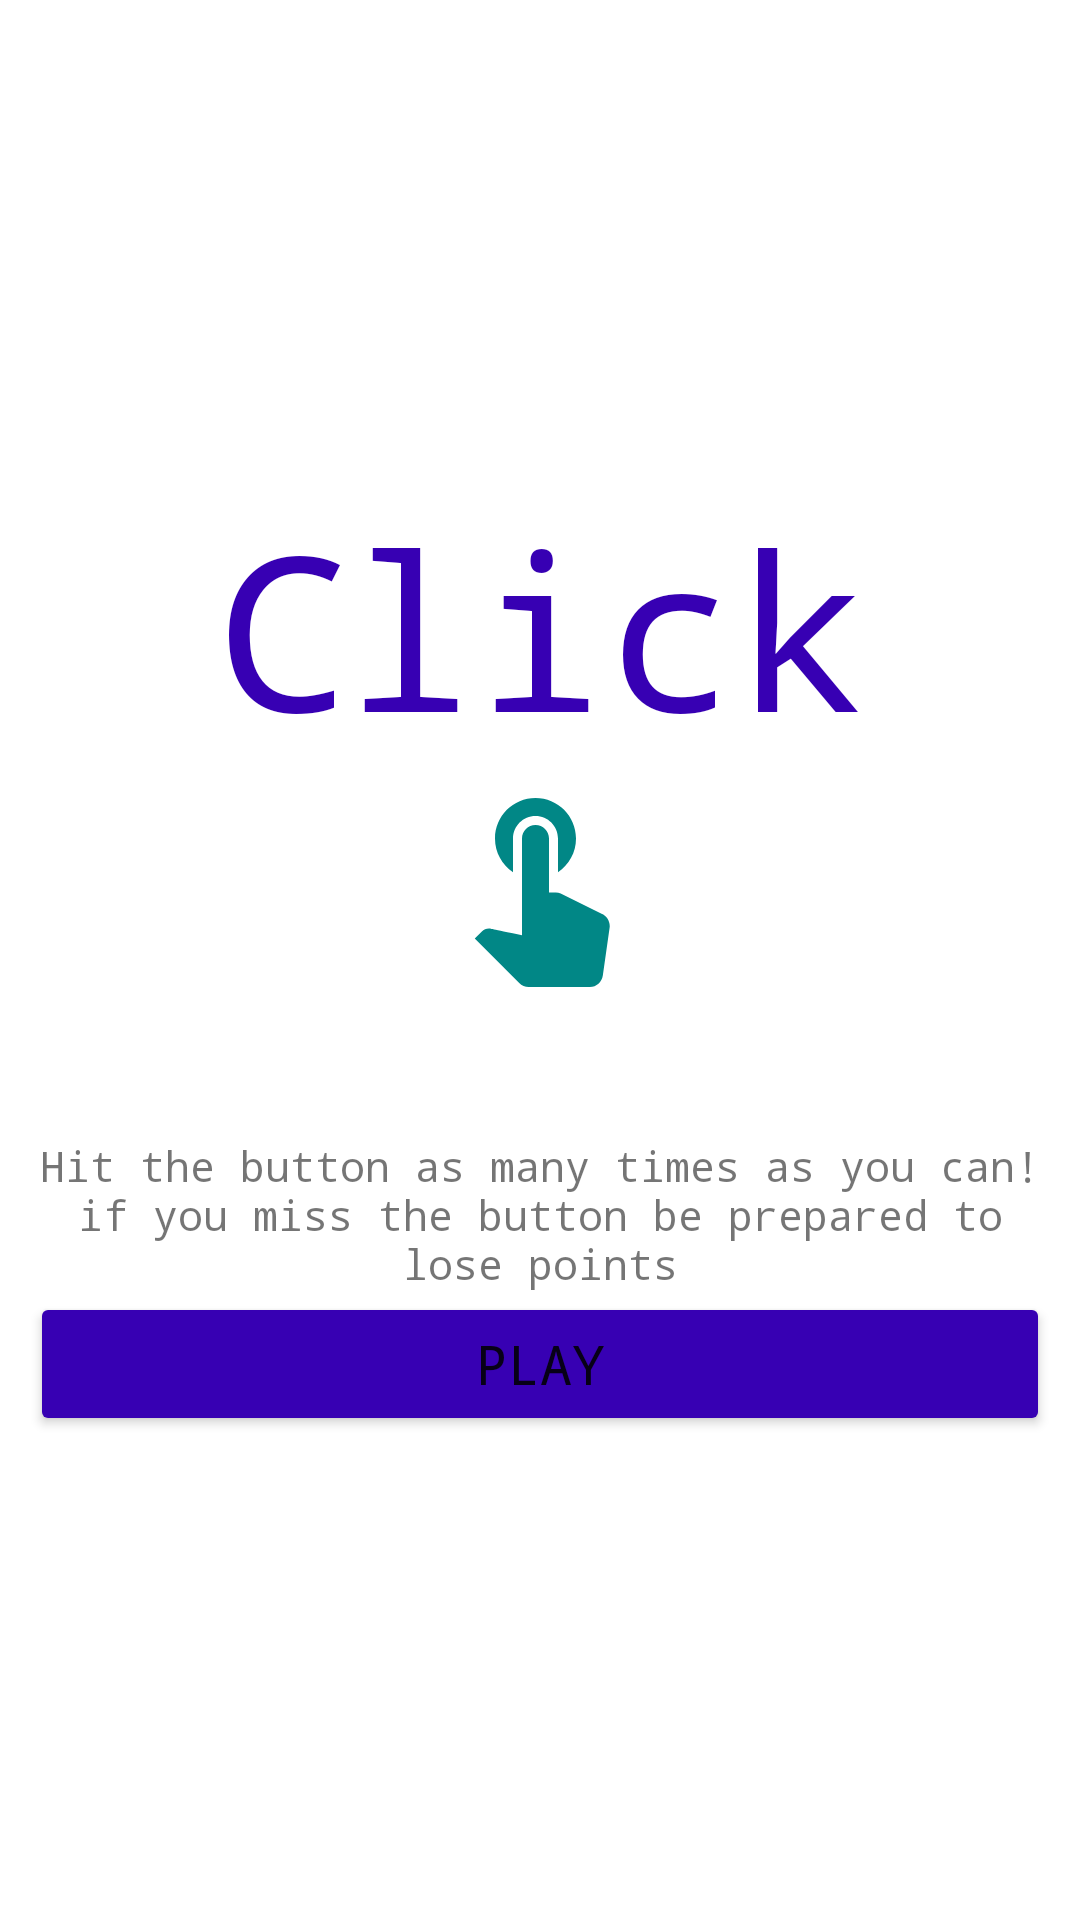

Icons on this 1080*1920 Android screen, each with the point to tap as point (x, y):
Icon for touching screen: point (542, 892)
